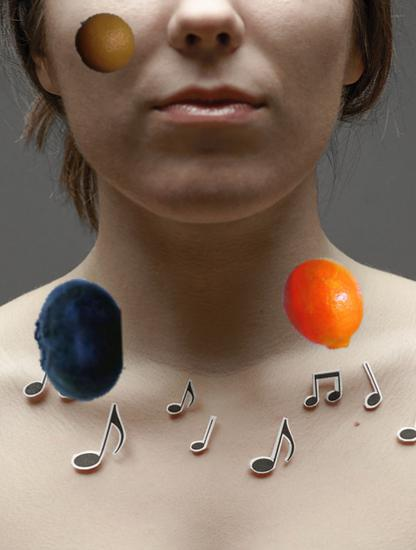Blueberry: (17, 279, 140, 402)
Orange: (73, 11, 136, 74)
Tangelo: (278, 257, 374, 353)
